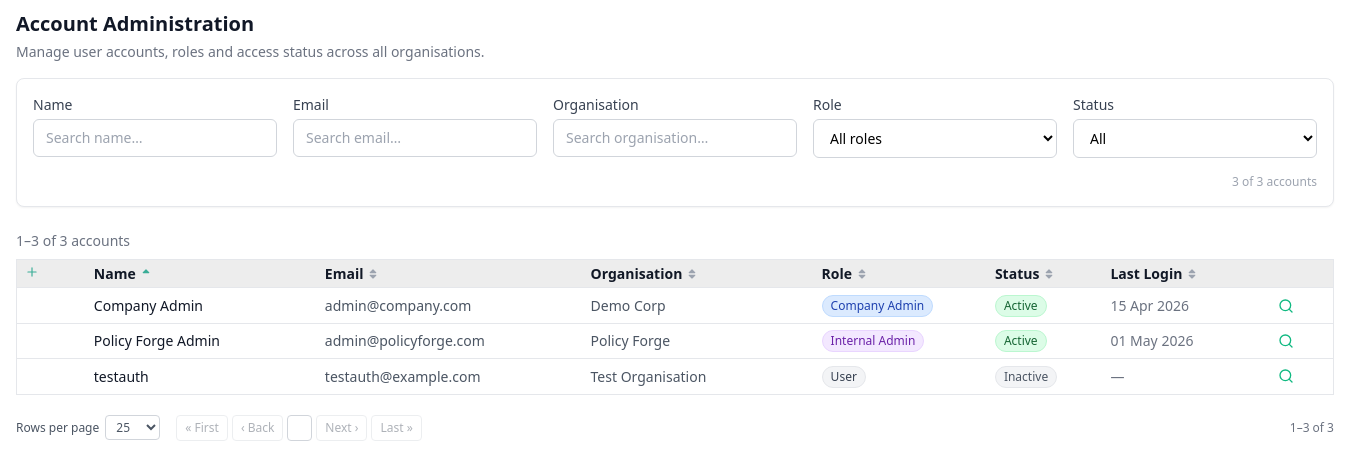
it: T-SETTINGS-USERS-R03: search filters reduce displayed rows › shows Clear button when a filter is active and clears on click
Step 1. Type "Admin" into the field named "Filter by name" → x=155, y=138, box [33,119,277,157]
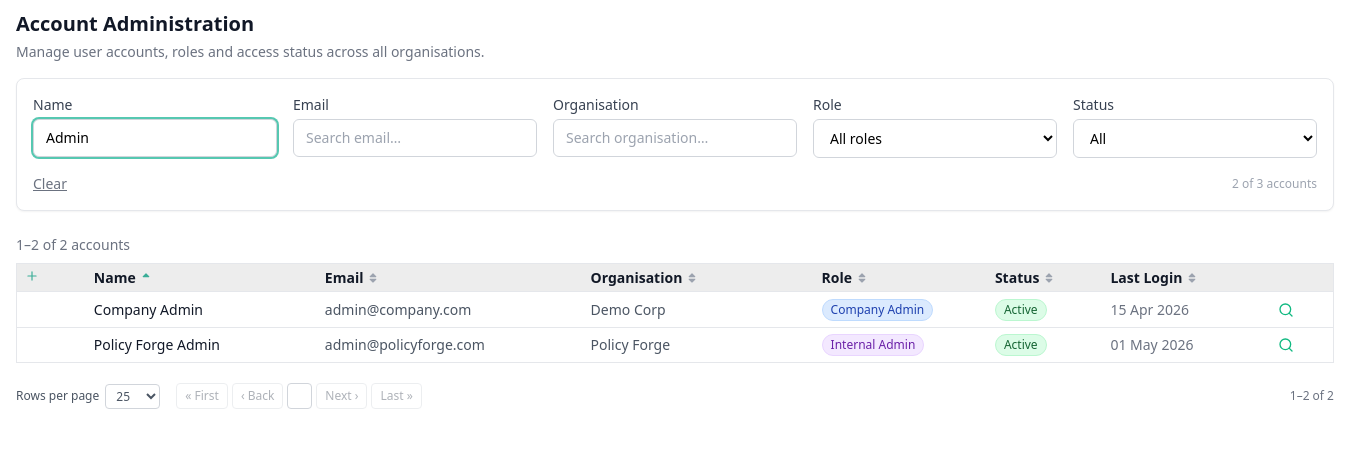
Check: the button with aria-label "Clear filters" is shown
Step 2. Click the button with aria-label "Clear filters" → x=50, y=184, box [33,174,67,194]
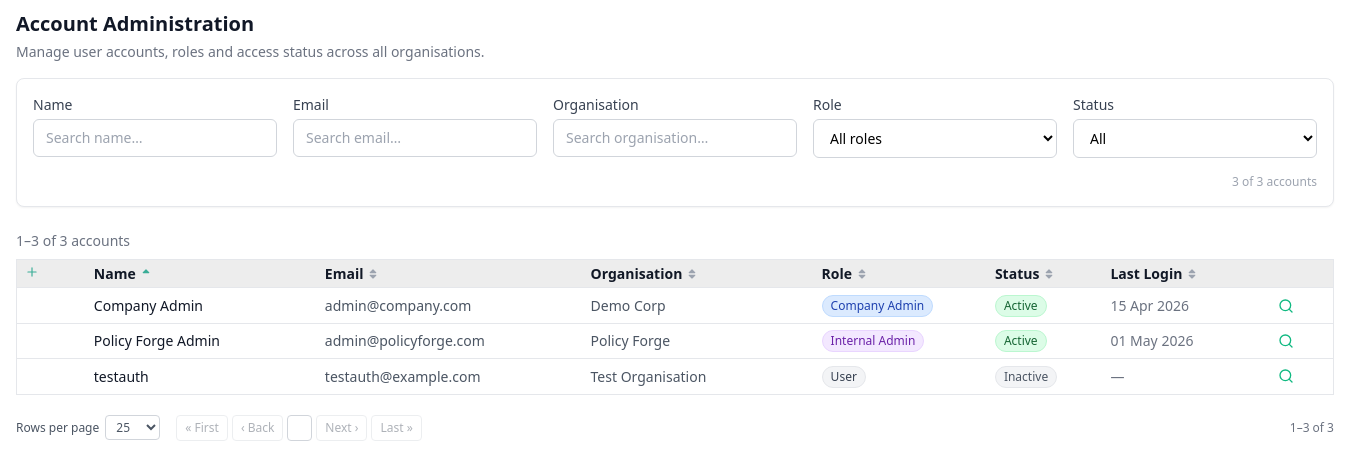
Check: the field named "Filter by name" is empty, box [33,119,277,157]
